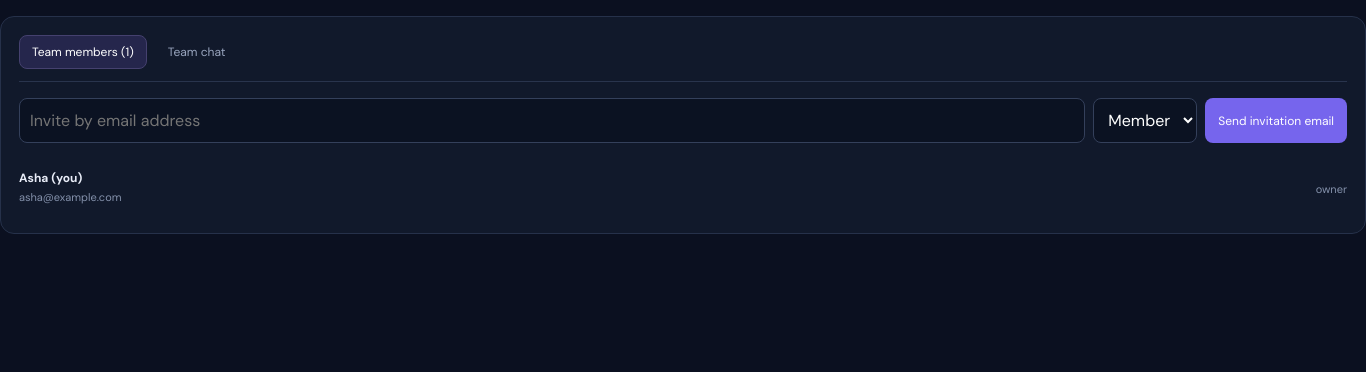
Test: CollaborationPanel › sends an invitation email and displays a backup link
Type "member@example.com" into the field named "Invite email".
click(552, 120); type("member@example.com")  # box [19,98,1085,143]
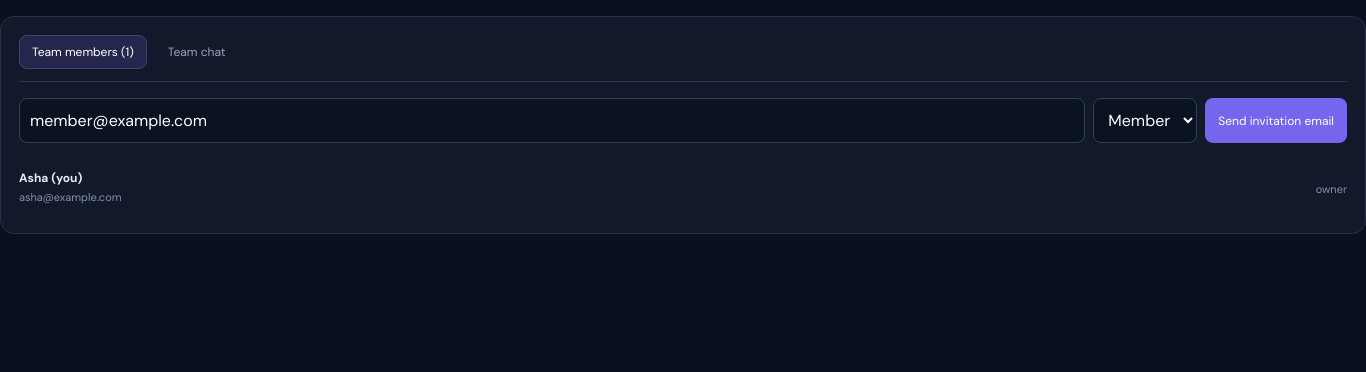
Click the button "Send invitation email".
click(1276, 120)  # box [1205,98,1347,143]
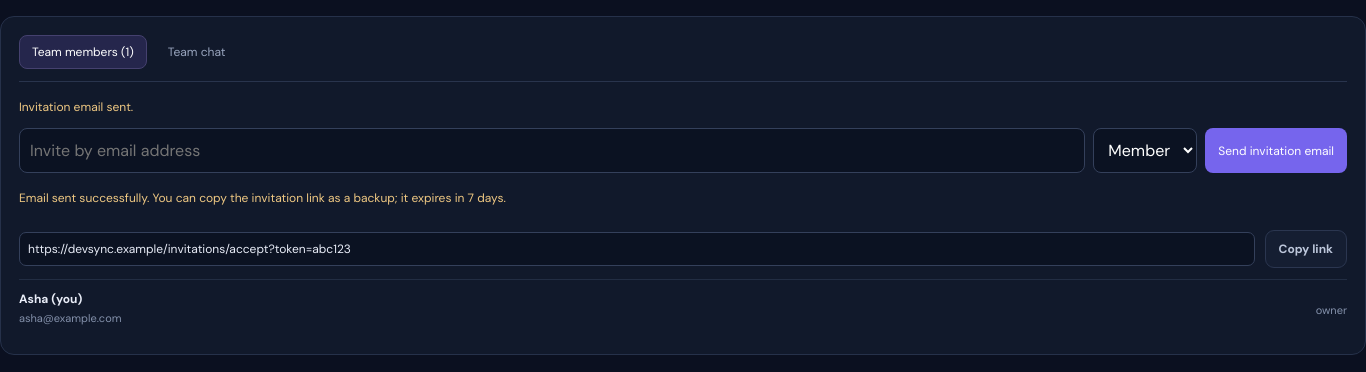
Now the field showing "https://devsync.example/invitations/accept?token=abc123" is shown, box [19,232,1255,266]
